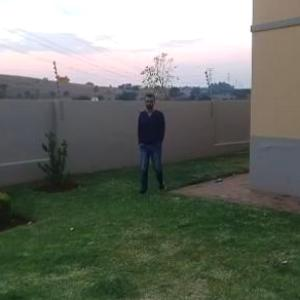follow: (134, 91, 170, 195)
